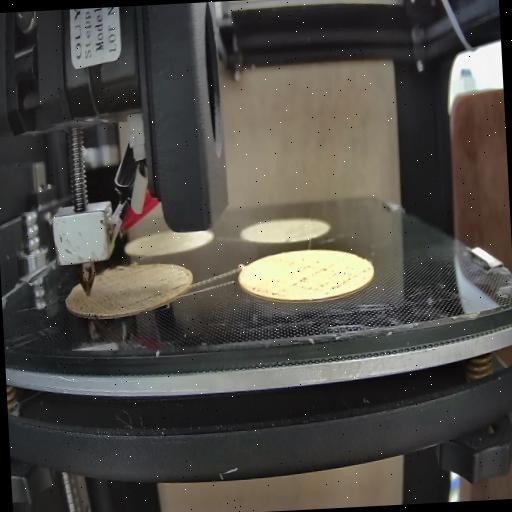under_extrusion: (65, 281, 188, 318), (292, 253, 372, 298), (250, 276, 288, 302)
